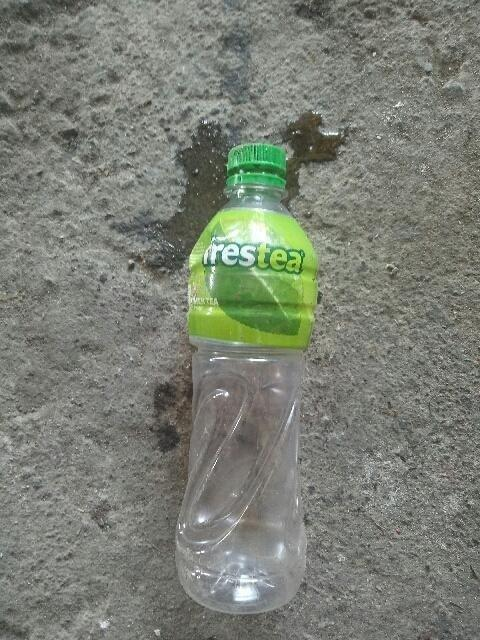bottle-plastic: (169, 139, 320, 616)
